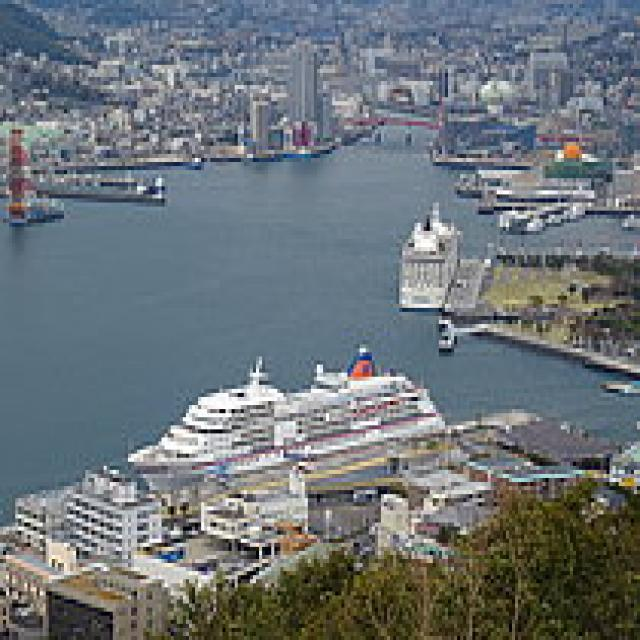Ship: (114, 341, 306, 495)
